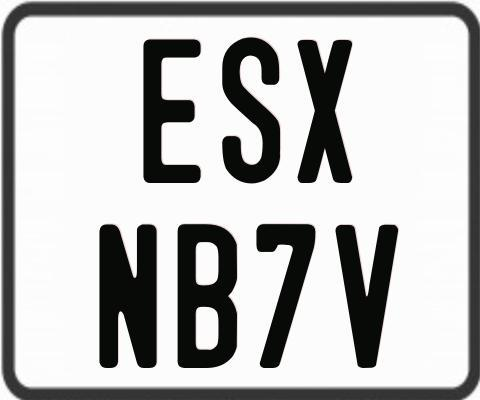7: (256, 223, 321, 369)
B: (175, 222, 239, 370)
E: (140, 37, 199, 184)
N: (99, 224, 158, 370)
S: (222, 35, 280, 186)
V: (333, 225, 397, 370)
X: (296, 38, 352, 181)
